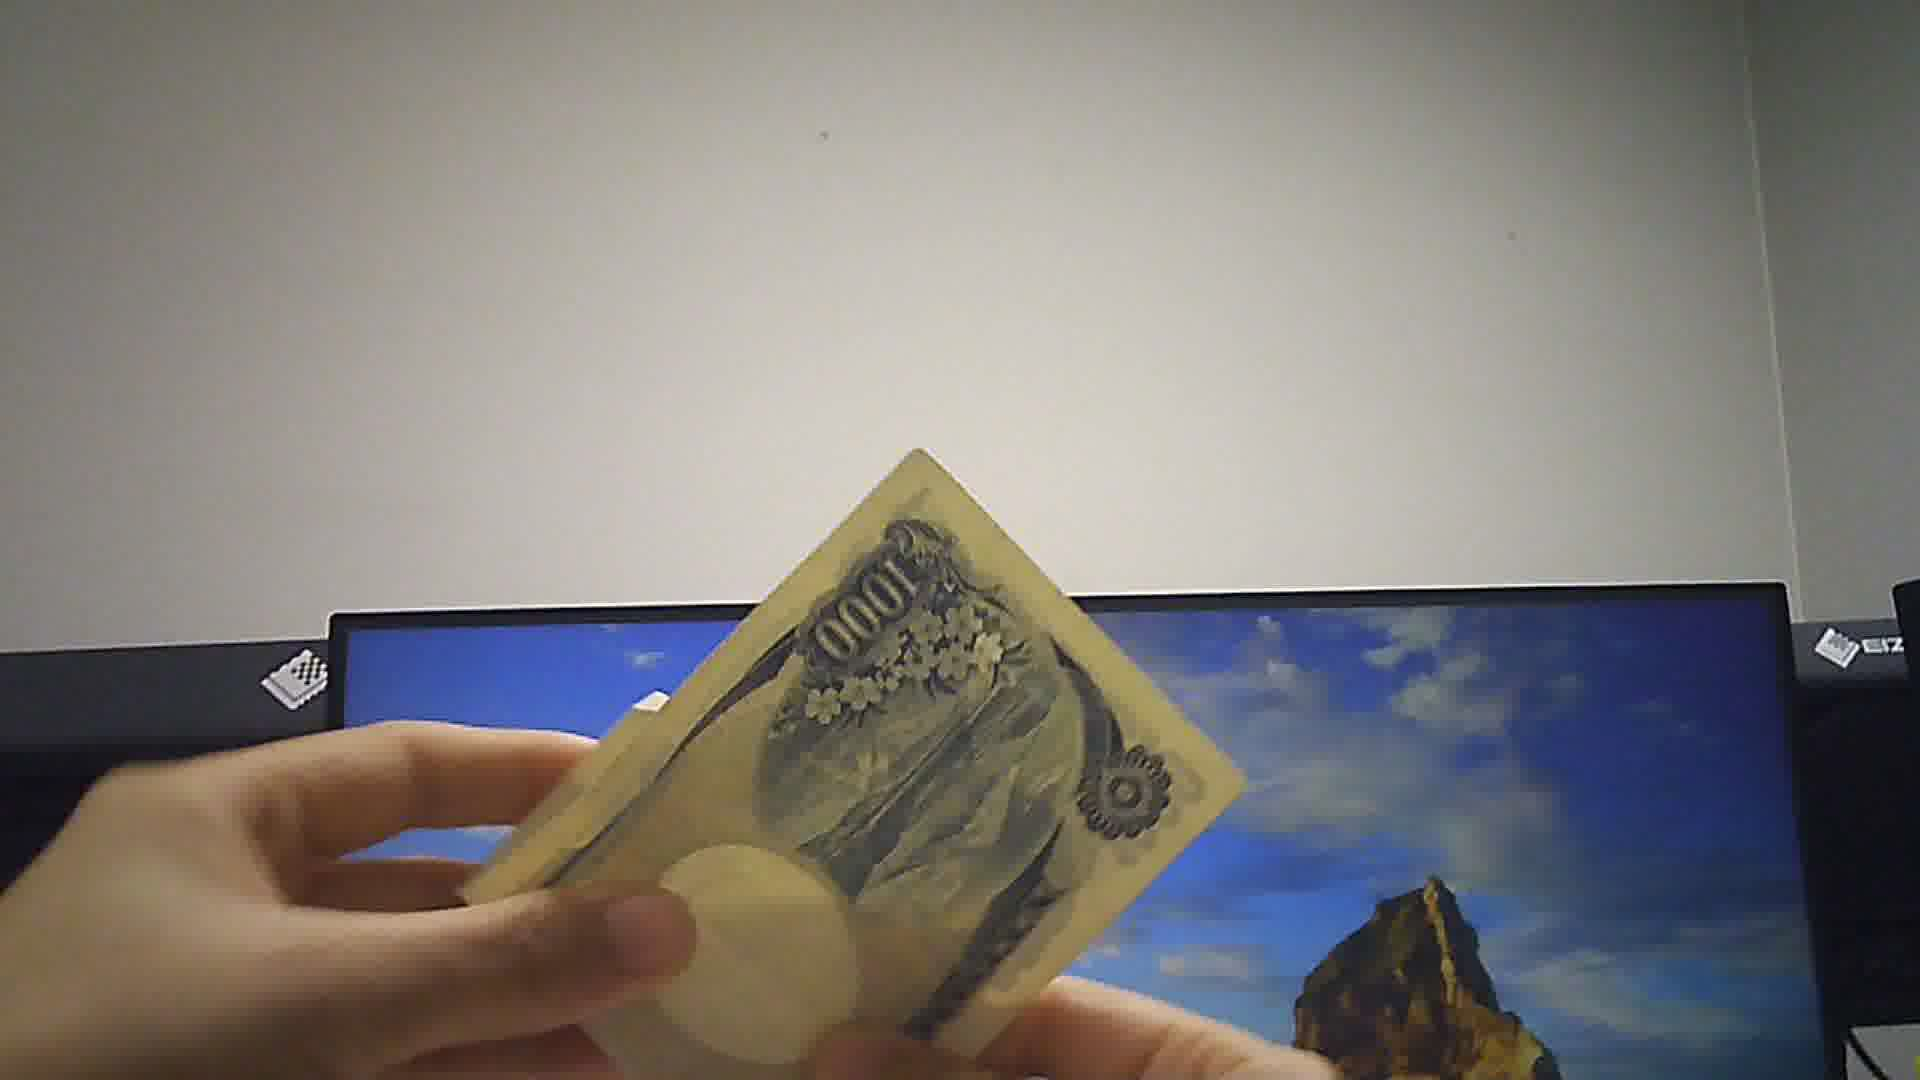1,000 Yen: (434, 451, 1218, 1079)
